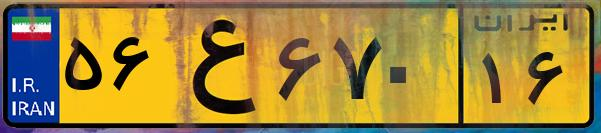0: (385, 28, 445, 110)
1: (475, 38, 525, 113)
5: (57, 26, 110, 100)
6: (270, 28, 330, 110), (525, 38, 570, 115), (110, 28, 158, 98)
7: (330, 28, 385, 110)
ع: (158, 12, 270, 120)
